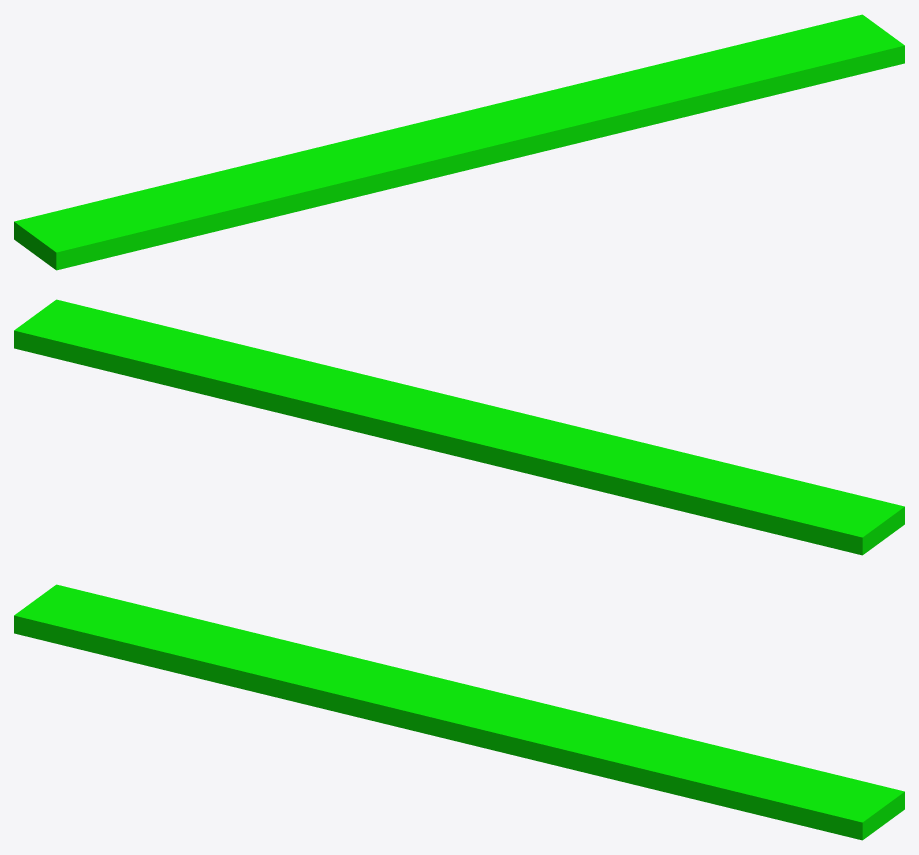
The model's file is SM_Ruler_Tailor.fbx.
3 views of the same model, one above another, from view 1: azimuth 30°, elevation 25°; view 2: azimuth 150°, elevation 25°; view 3: azimuth 330°, elevation 25° (orthographic).
Visible parts, largest first — view 1: ruler-tailor; view 2: ruler-tailor; view 3: ruler-tailor.
Part boxes in pixels (left/top/right/bottom): ruler-tailor: left=14, top=14, right=904, bottom=270; ruler-tailor: left=14, top=299, right=904, bottom=555; ruler-tailor: left=14, top=584, right=904, bottom=840.
Size of the model in its own units: 0.54 by 0.0109 by 0.0468.
